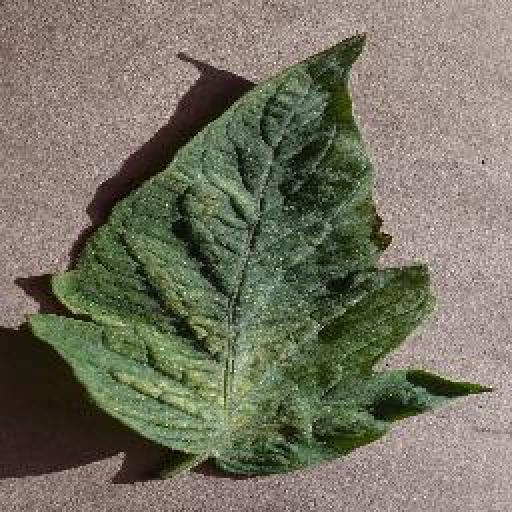disease_tomato: (28, 31, 493, 480)
